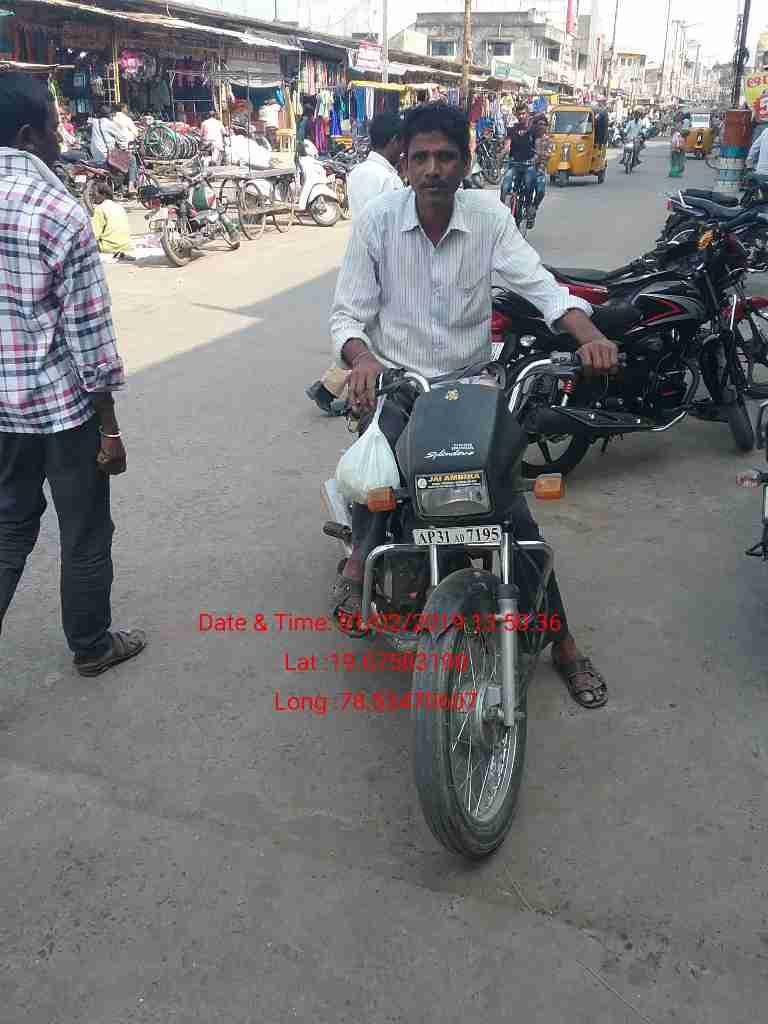plate: (410, 524, 507, 552)
